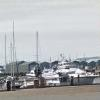Boat: (21, 67, 95, 90)
